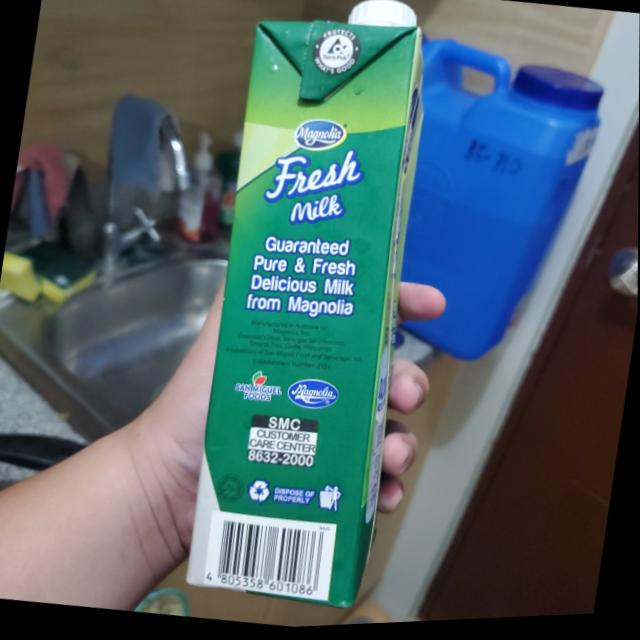milk: (172, 0, 456, 634)
